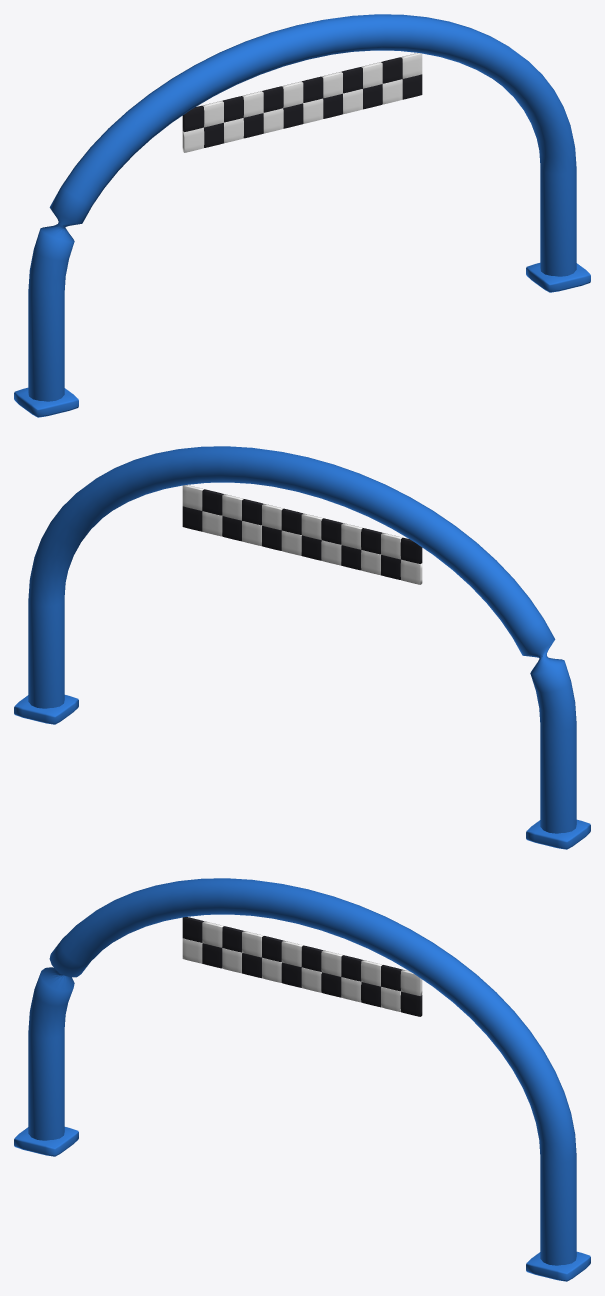
File: BobsledArch.obj
3 views of the same model, one above another, from view 1: azimuth 30°, elevation 25°; view 2: azimuth 150°, elevation 25°; view 3: azimuth 330°, elevation 25° (orthographic).
Visible parts, largest first — view 1: Arch, Light, Dark; view 2: Arch, Light, Dark; view 3: Arch, Dark, Light.
Part boxes in pixels (x1=…): Arch: x1=14, y1=14, x2=590, y2=417; Light: x1=182, y1=53, x2=422, y2=152; Dark: x1=182, y1=57, x2=422, y2=147; Arch: x1=14, y1=446, x2=590, y2=849; Light: x1=182, y1=485, x2=422, y2=584; Dark: x1=182, y1=489, x2=422, y2=579; Arch: x1=14, y1=878, x2=590, y2=1281; Dark: x1=182, y1=917, x2=422, y2=1016; Light: x1=182, y1=921, x2=422, y2=1011.
Size of the model in its own units: 55.97 by 30.56 by 4.37.
